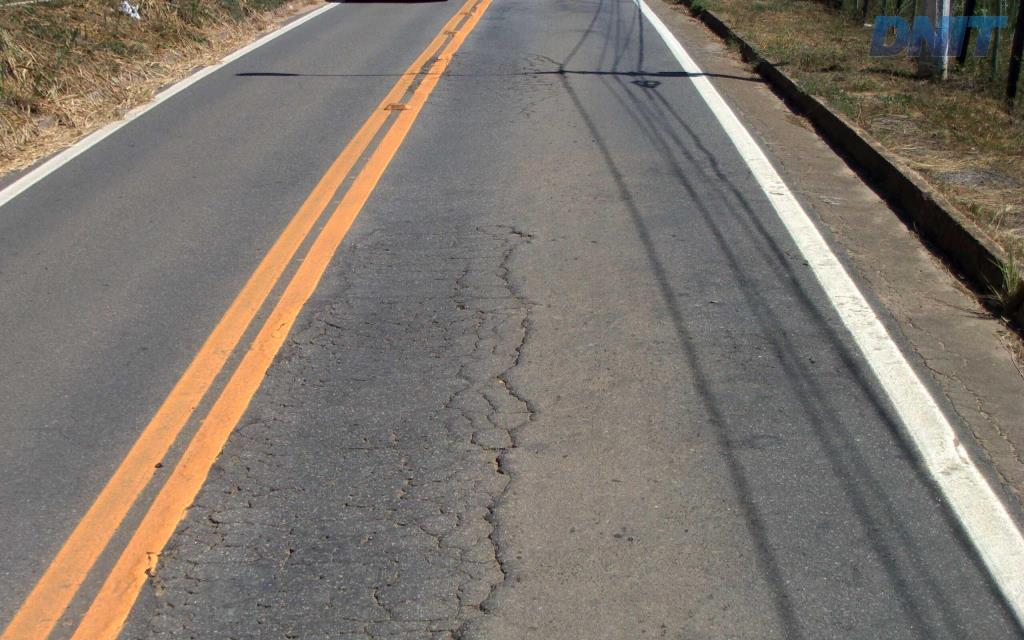crack: (262, 533, 356, 608), (385, 499, 444, 548), (482, 494, 510, 581), (470, 427, 517, 478), (367, 578, 399, 624)
